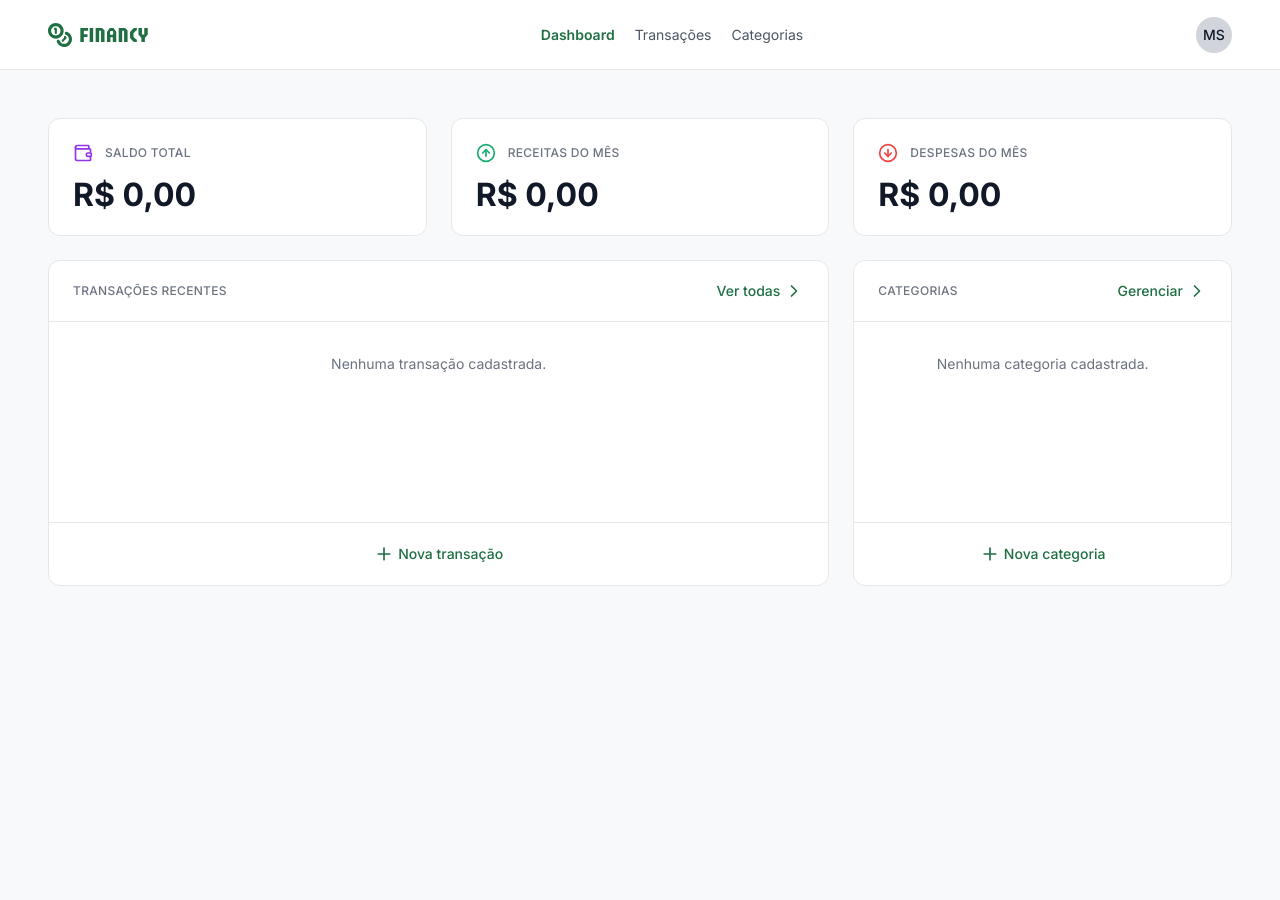
Scenario: auth navigation › navega para /profile pelo link do avatar
Click the link with aria-label "Perfil".
click(1214, 34)  # box [1196,16,1232,52]
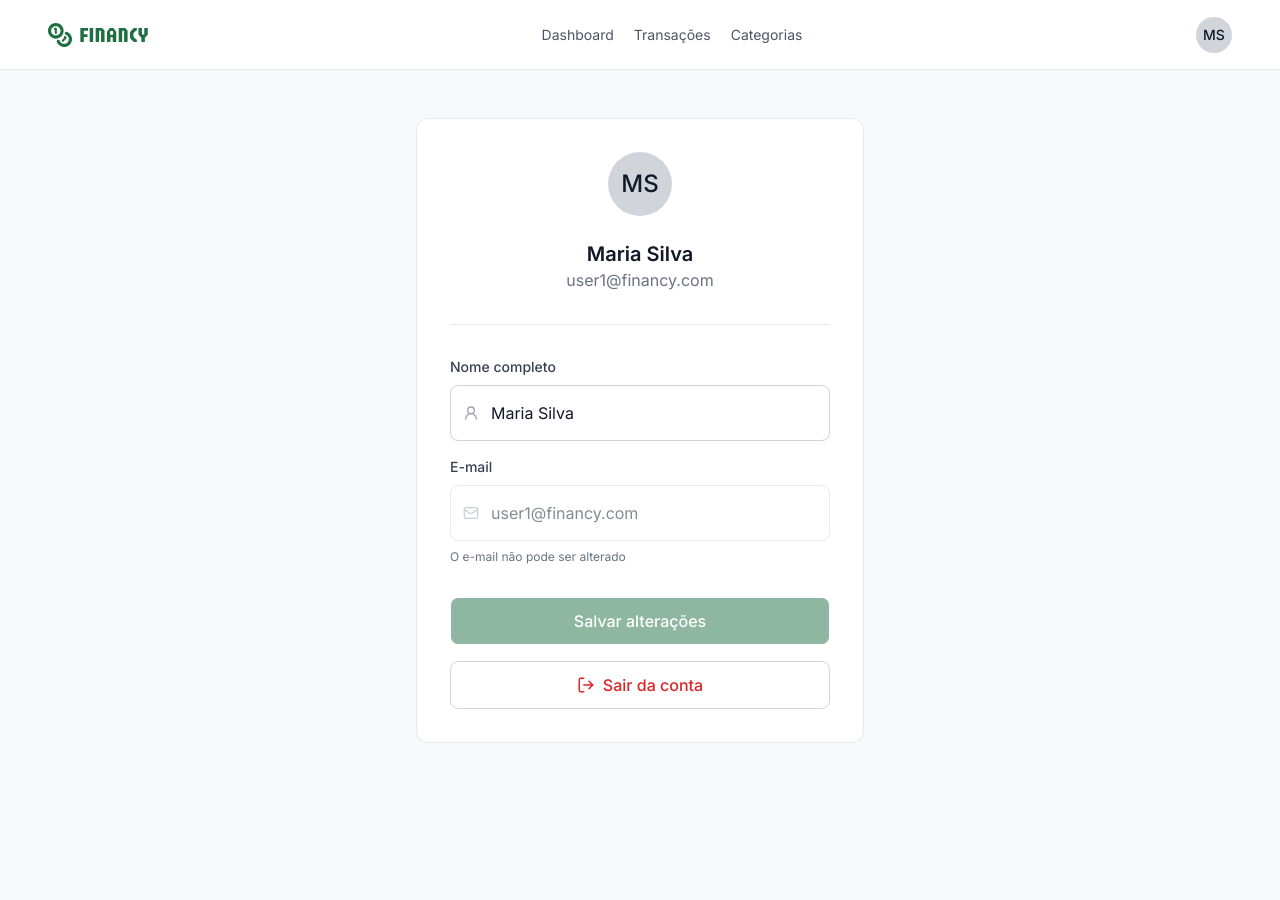
Check: the heading "Maria Silva" is shown, box [587,242,693,266]
